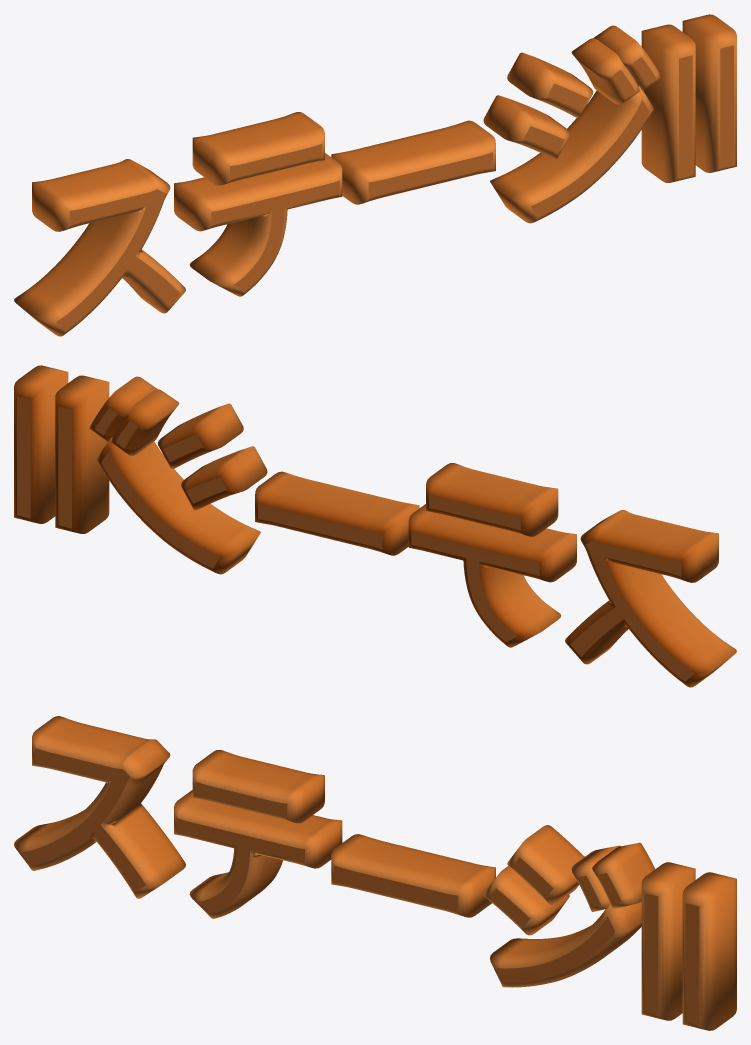
The model's file is stage2.obj.
The picture shows the model from 3 angles, top to bottom: view 1: azimuth 30°, elevation 25°; view 2: azimuth 150°, elevation 25°; view 3: azimuth 330°, elevation 25°; orthographic projection.
Visible parts, largest first — view 1: テキスト; view 2: テキスト; view 3: テキスト.
Boxes of the visible parts, box(x1,y1,x2,y2) form: テキスト: box(14, 14, 736, 336); テキスト: box(14, 365, 736, 687); テキスト: box(14, 716, 736, 1030).
Size of the model in its own units: 2.33 by 0.5018 by 0.2.
Materials: 1 (1 with a texture image).
